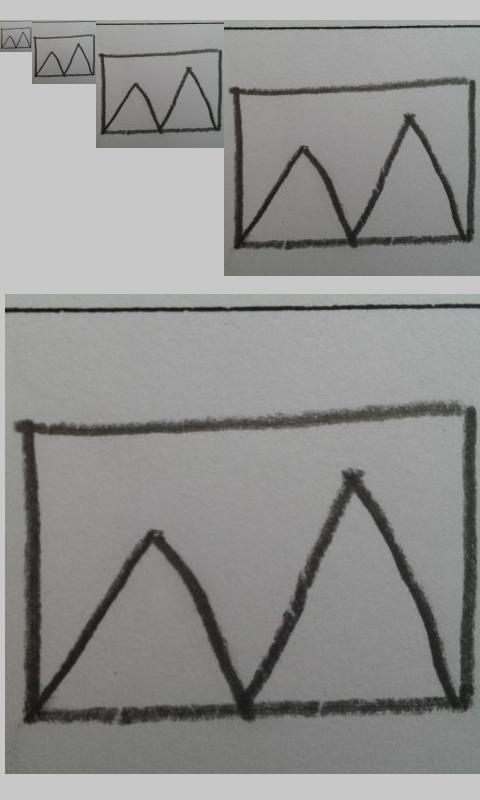image_view: (22, 407, 473, 722), (228, 75, 475, 255), (100, 49, 223, 135), (33, 34, 95, 77), (1, 27, 31, 49)
